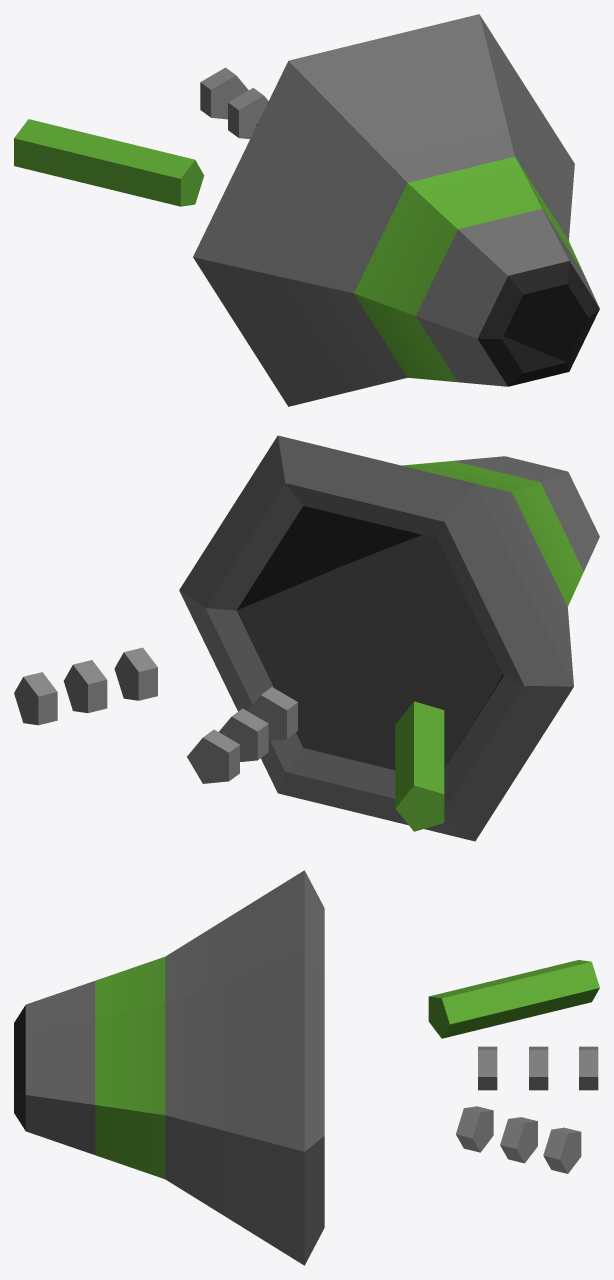
The model's file is ui_soundIconA.fbx.
The picture shows the model from 3 angles, top to bottom: view 1: azimuth 30°, elevation 25°; view 2: azimuth 150°, elevation 25°; view 3: azimuth 270°, elevation 25°; orthographic projection. The views are drawn at different scales.
Visible parts, largest first — view 1: polySurface306; view 2: polySurface306; view 3: polySurface306.
Part boxes in pixels (left/top/right/bottom): polySurface306: left=14, top=14, right=599, bottom=406; polySurface306: left=14, top=435, right=599, bottom=841; polySurface306: left=14, top=870, right=599, bottom=1265.
Bounding box in the file's own units: 2.23 × 1.73 × 2.95.
